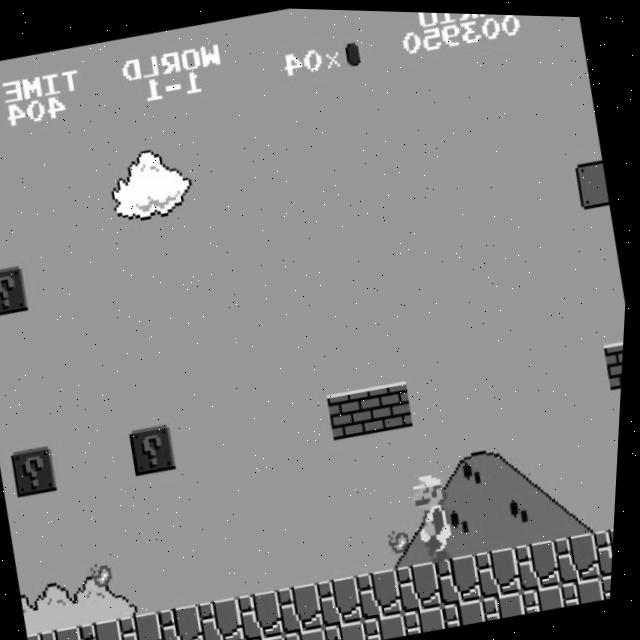1- brick_block: (328, 384, 381, 439), (368, 376, 420, 432), (605, 334, 627, 386)
13- mystery_block: (131, 421, 183, 476), (13, 443, 65, 498), (0, 264, 33, 318)
17- undestructible_block: (556, 526, 609, 582), (319, 571, 372, 626), (399, 556, 451, 612), (359, 563, 411, 619), (517, 534, 569, 589), (477, 542, 529, 597), (438, 549, 490, 604), (280, 579, 332, 634), (241, 586, 293, 640), (201, 593, 253, 640), (162, 600, 214, 640), (123, 607, 174, 640), (486, 586, 533, 618), (446, 594, 493, 626), (565, 572, 611, 604), (526, 579, 572, 611), (407, 601, 453, 633), (368, 609, 414, 640), (595, 519, 619, 574), (84, 616, 135, 640), (328, 616, 375, 640), (45, 623, 96, 640), (289, 623, 335, 640), (250, 630, 296, 640), (604, 564, 618, 595), (33, 630, 55, 640), (211, 639, 256, 640)
3- empty_block: (574, 156, 613, 206)
4- fire_mario: (406, 462, 473, 564)
5- fireball: (391, 522, 417, 552), (94, 557, 120, 587)
